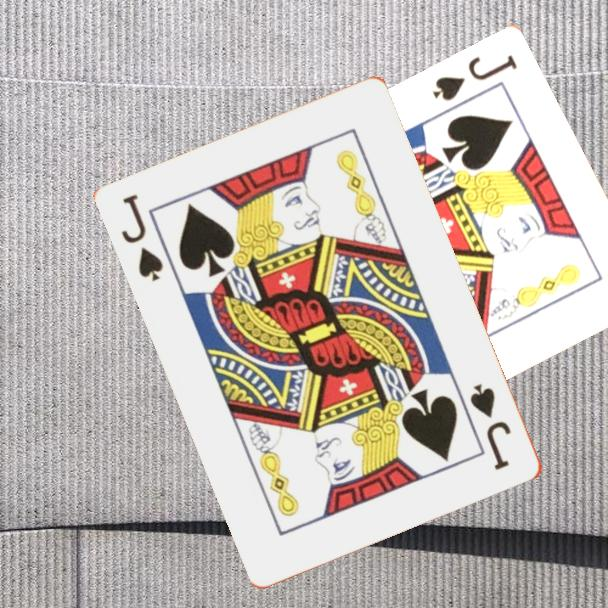s11: (428, 52, 520, 105), (118, 190, 167, 285), (467, 379, 515, 474)
